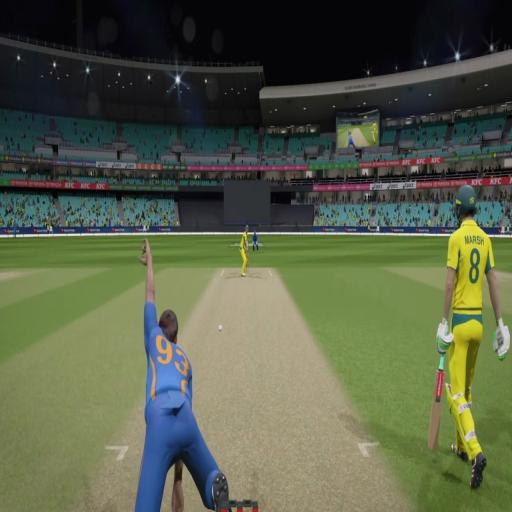ball: (216, 319, 224, 336)
